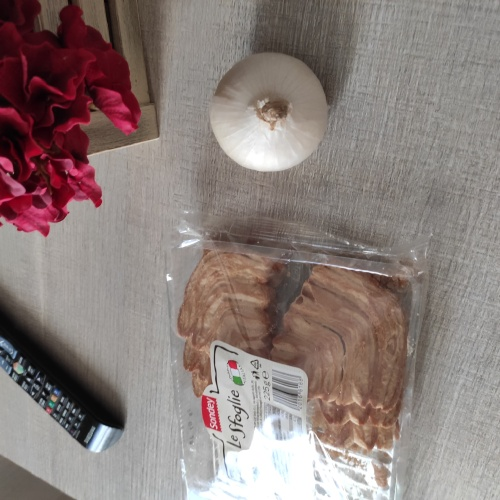cipolla: (209, 42, 340, 180)
